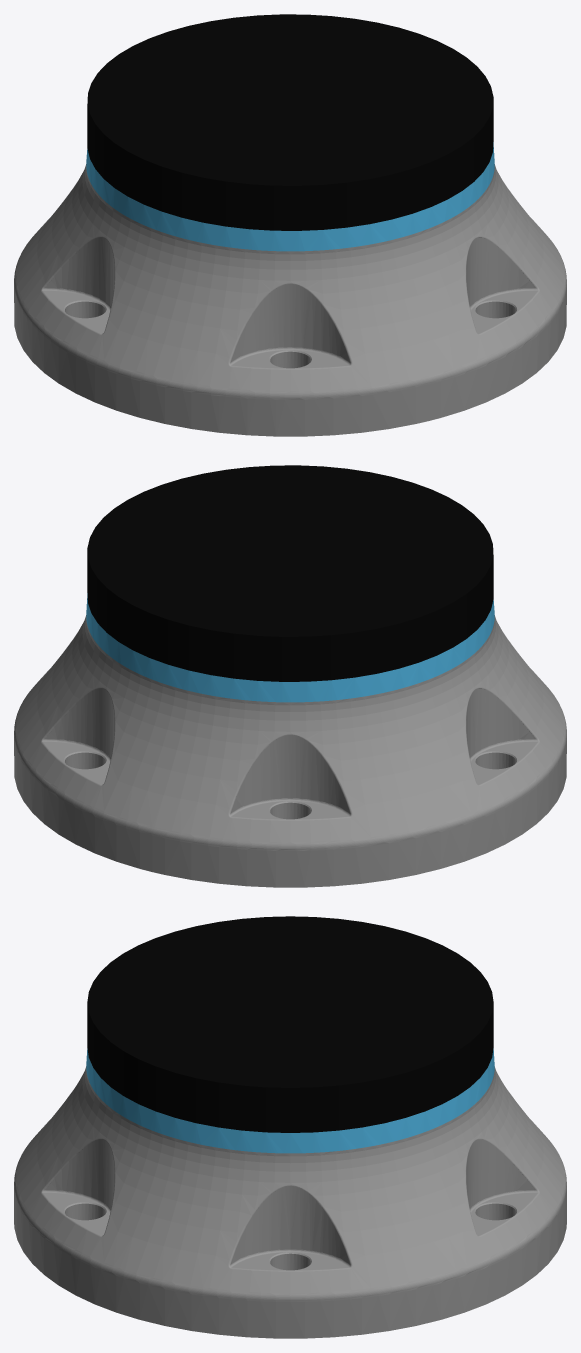
The picture shows the model from 3 angles, top to bottom: view 1: azimuth 30°, elevation 25°; view 2: azimuth 150°, elevation 25°; view 3: azimuth 270°, elevation 25°; orthographic projection.
Parts seen in each view (by area): view 1: link_0; view 2: link_0; view 3: link_0.
Boxes of the visible parts, x1,y1,x2,y2 form: link_0: (14, 14, 566, 436); link_0: (14, 465, 566, 887); link_0: (14, 916, 566, 1338).
Bounding box in the file's own units: 0.245 × 0.245 × 0.1074.
